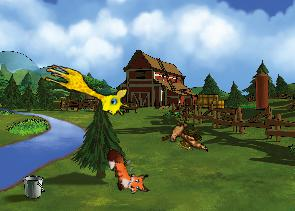eagle: (159, 116, 208, 155)
fox: (103, 141, 153, 201)
giraffe: (38, 61, 133, 119)
